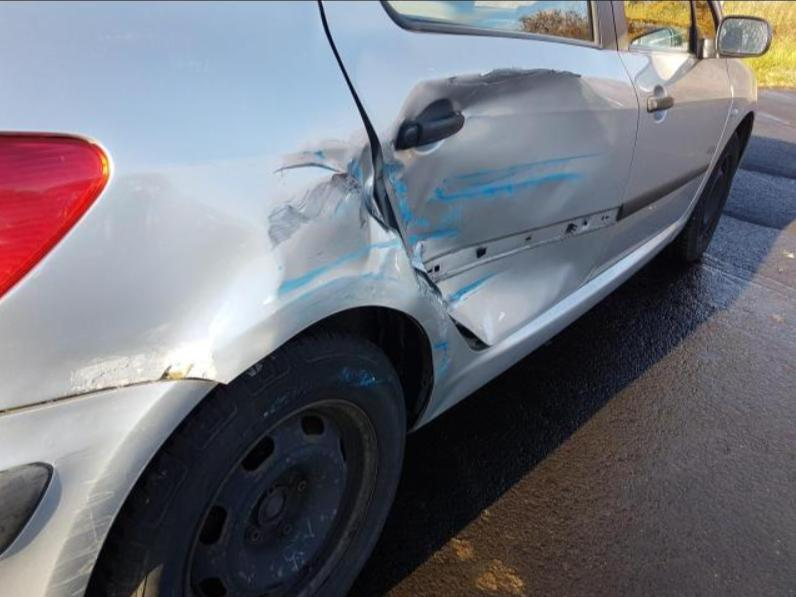Broken part: (342, 67, 497, 359), (68, 370, 226, 403)
Corrosion: (70, 354, 193, 393)
Dent: (389, 56, 637, 341), (248, 127, 464, 422), (55, 175, 289, 394), (404, 300, 446, 378)
Flaking: (444, 64, 588, 89)
Missing part: (422, 207, 621, 282)
Scratch: (25, 468, 141, 596), (264, 156, 398, 254), (263, 147, 370, 248), (273, 238, 401, 297), (432, 151, 607, 189), (434, 171, 585, 203), (283, 273, 388, 310), (441, 266, 517, 313), (444, 59, 578, 84), (395, 183, 430, 231), (361, 185, 390, 233), (404, 226, 464, 246), (58, 541, 100, 563), (55, 562, 91, 583), (274, 161, 335, 173), (288, 147, 331, 164), (433, 341, 451, 381), (82, 490, 112, 512), (71, 520, 104, 539), (388, 157, 408, 173), (160, 363, 175, 379), (76, 476, 104, 484), (181, 363, 198, 376)
